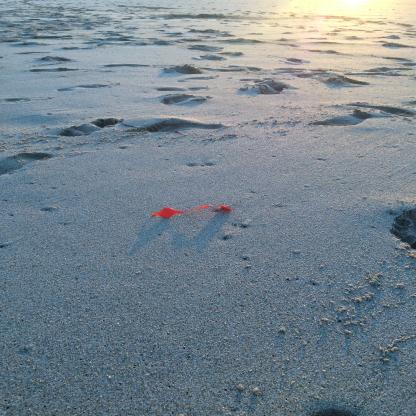trash: (150, 195, 235, 223)
